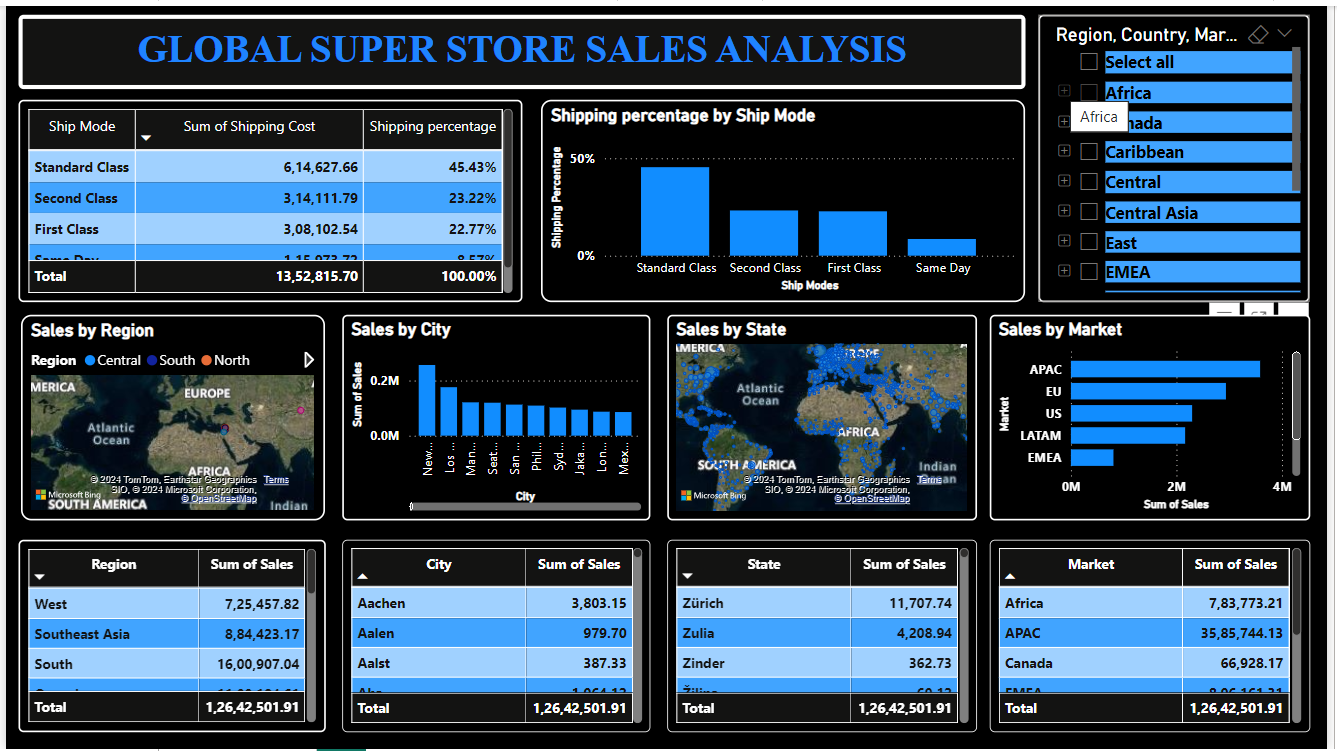

The page's visual inventory and layout, read from the dashboard file:
{"tool":"powerbi","page":{"name":"VISUALIZATION","canvas":[1280,720],"ordinal":0},"visuals":[{"type":"slicer","fields":{"Values":["Orders.Region Hierarchy.Region","Orders.Region Hierarchy.Country","Orders.Region Hierarchy.Market"]},"box":[999.8,8.7,262.6,278.5],"z":0},{"type":"columnChart","fields":{"Category":["Orders.Ship Mode"],"Y":["Orders.Shipping percentage"]},"box":[518,90.9,468.9,196.2],"z":1000},{"type":"columnChart","title":"Sales by City","fields":{"Category":["Orders.City"],"Y":["Sum(Orders.Sales)"]},"box":[326.1,298.7,298.7,199.1],"z":2000},{"type":"tableEx","fields":{"Values":["Orders.City","Sum(Orders.Sales)"]},"box":[326.1,516.5,298.7,186.1],"z":3000},{"type":"map","title":"Sales by State","fields":{"Category":["Orders.State"],"Size":["Sum(Orders.Sales)"]},"box":[640.6,298.7,300.1,199.1],"z":4000},{"type":"tableEx","fields":{"Values":["Orders.State","Sum(Orders.Sales)"]},"box":[640.6,516.5,300.1,186.1],"z":5000},{"type":"barChart","title":"Sales by Market","fields":{"Category":["Orders.Market"],"Y":["Sum(Orders.Sales)"]},"box":[952.2,298.7,310.2,199.1],"z":6000},{"type":"tableEx","fields":{"Values":["Orders.Market","Sum(Orders.Sales)"]},"box":[952.2,516.5,310.2,186.1],"z":7000},{"type":"map","title":"Sales by Region","fields":{"Category":["Orders.Region"],"Size":["Sum(Orders.Sales)"],"Series":["Orders.Region"]},"box":[14.4,298.7,294.3,199.1],"z":8000},{"type":"tableEx","fields":{"Values":["Orders.Region","Sum(Orders.Sales)"]},"box":[11.5,516.5,297.2,186.1],"z":9000},{"type":"textbox","box":[11.5,8.7,975.3,72.1],"z":10000},{"type":"tableEx","fields":{"Values":["Orders.Ship Mode","Sum(Orders.Shipping Cost)","Orders.Shipping percentage"]},"box":[11.5,90.9,487.7,196.2],"z":11000}]}

Visuals, with their boxes in screenshot pixels (x1, y1, x2, y2), scaled from the page's 1280x720 canvas onto the 1337x751 screenshot:
slicer - Orders.Region Hierarchy.Region x Orders.Region Hierarchy.Country: [left=1044, top=9, right=1319, bottom=300]
columnChart - Orders.Ship Mode x Orders.Shipping percentage: [left=541, top=95, right=1031, bottom=299]
"Sales by City" columnChart: [left=341, top=312, right=653, bottom=519]
tableEx - Orders.City x Sum(Orders.Sales): [left=341, top=539, right=653, bottom=733]
"Sales by State" map: [left=669, top=312, right=983, bottom=519]
tableEx - Orders.State x Sum(Orders.Sales): [left=669, top=539, right=983, bottom=733]
"Sales by Market" barChart: [left=995, top=312, right=1319, bottom=519]
tableEx - Orders.Market x Sum(Orders.Sales): [left=995, top=539, right=1319, bottom=733]
"Sales by Region" map: [left=15, top=312, right=322, bottom=519]
tableEx - Orders.Region x Sum(Orders.Sales): [left=12, top=539, right=322, bottom=733]
textbox: [left=12, top=9, right=1031, bottom=84]
tableEx - Orders.Ship Mode x Sum(Orders.Shipping Cost): [left=12, top=95, right=521, bottom=299]
